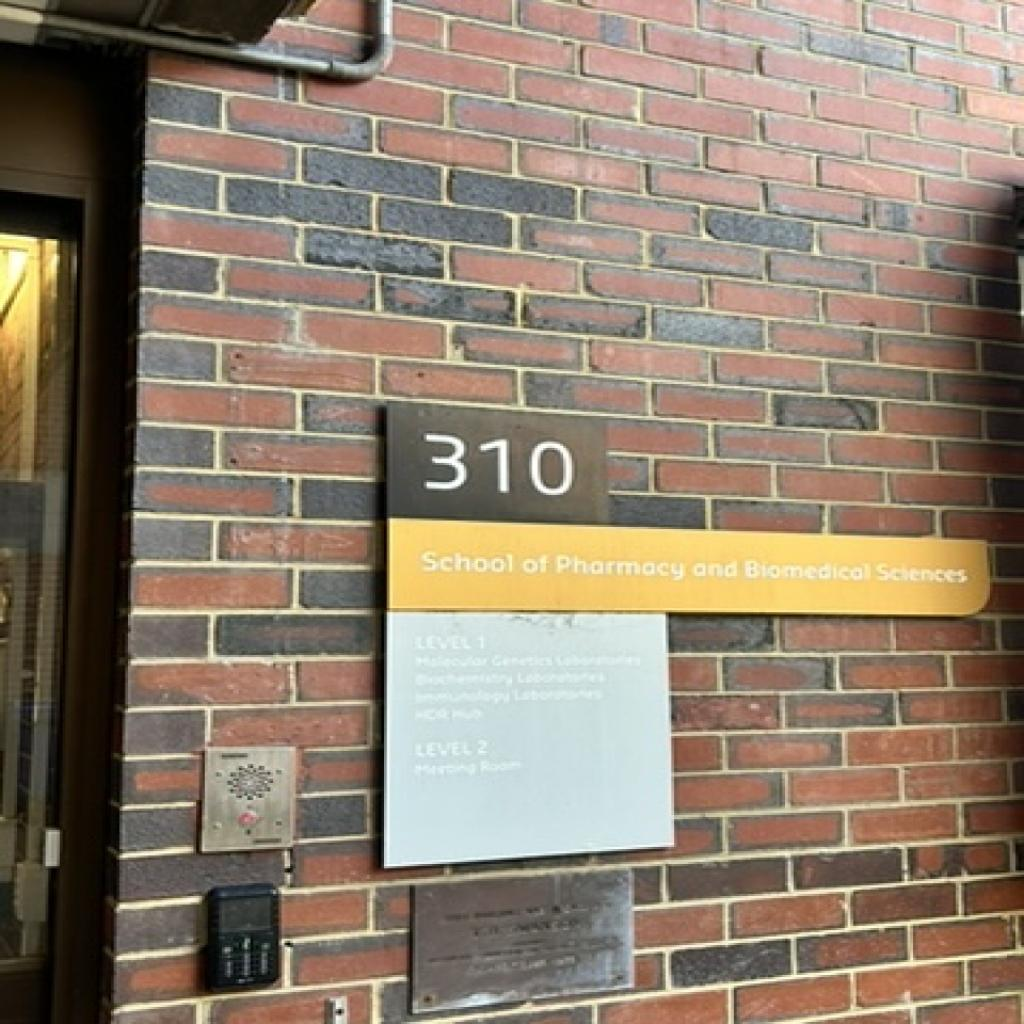BuildingCodes: (420, 425, 572, 497)
